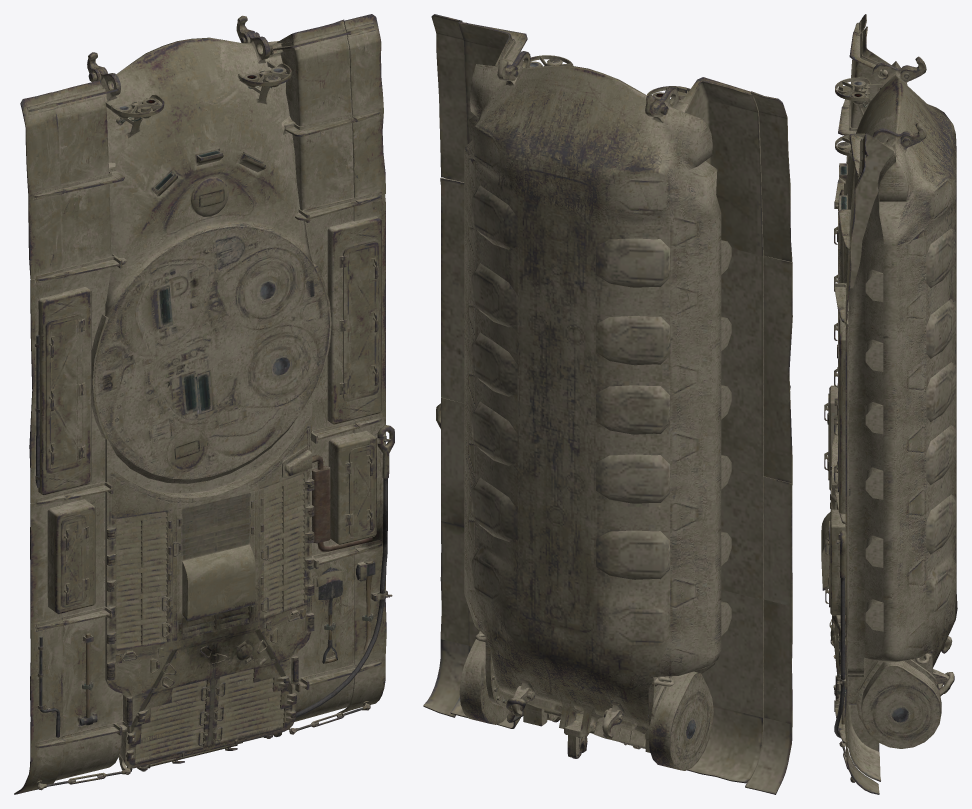
Rendered from Hull.glb.
The picture shows the model from 3 angles, left to right: view 1: azimuth 30°, elevation 25°; view 2: azimuth 150°, elevation 25°; view 3: azimuth 270°, elevation 25°; orthographic projection. The views are drawn at different scales.
Visible parts, largest first — view 1: set_0_group_0; view 2: set_0_group_0; view 3: set_0_group_0.
Part boxes in pixels (box(x1,y1,x2,y2)): set_0_group_0: box(14, 14, 394, 794); set_0_group_0: box(423, 14, 792, 794); set_0_group_0: box(821, 14, 957, 794).
Size of the model in its own units: 3.81 by 7.06 by 1.38.
Materials: 1 (1 with a texture image).
